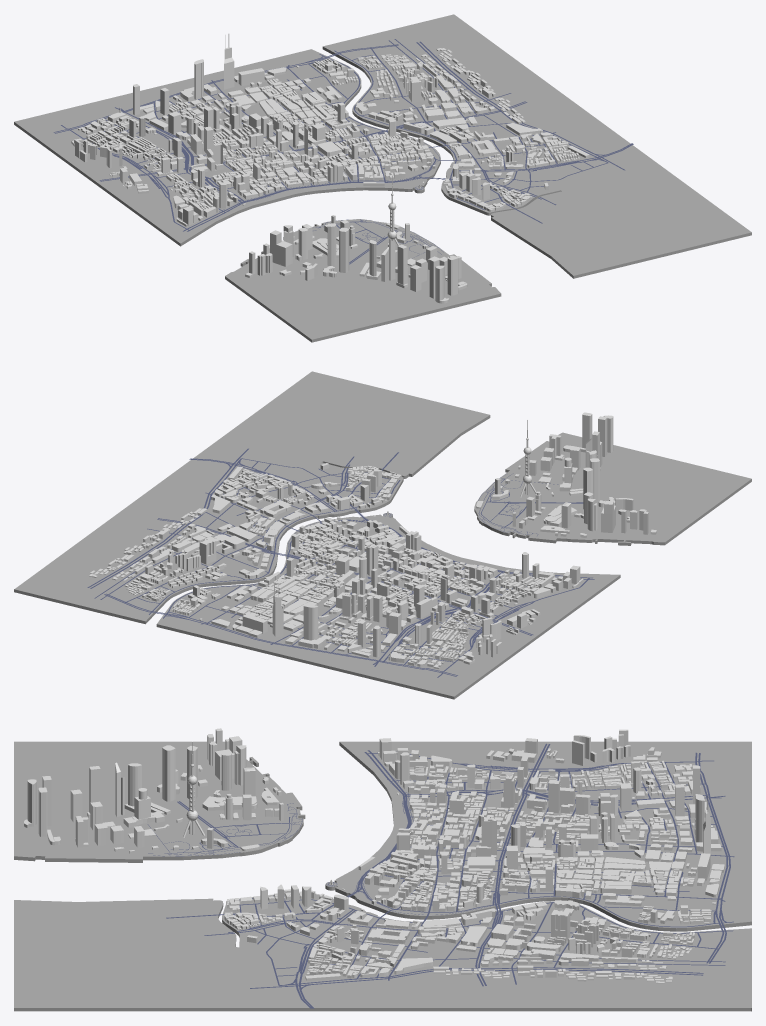
Rendered from shanghai2.0.glb.
The picture shows the model from 3 angles, top to bottom: view 1: azimuth 30°, elevation 25°; view 2: azimuth 150°, elevation 25°; view 3: azimuth 270°, elevation 25°; orthographic projection. The views are drawn at different scales.
Parts seen in each view (by area): view 1: LANDMASS, CITY_UNTRIANGULATED, ROADS; view 2: LANDMASS, CITY_UNTRIANGULATED, ROADS; view 3: LANDMASS, CITY_UNTRIANGULATED, ROADS.
Boxes of the visible parts, left/top/right/bottom form: LANDMASS: left=14, top=14, right=751, bottom=342; CITY_UNTRIANGULATED: left=71, top=34, right=589, bottom=303; ROADS: left=53, top=39, right=633, bottom=264; LANDMASS: left=14, top=371, right=751, bottom=699; CITY_UNTRIANGULATED: left=89, top=412, right=656, bottom=668; ROADS: left=87, top=448, right=594, bottom=677; LANDMASS: left=14, top=741, right=751, bottom=1011; CITY_UNTRIANGULATED: left=24, top=728, right=724, bottom=983; ROADS: left=147, top=743, right=734, bottom=1008.
Size of the model in its own units: 61.7 by 10.31 by 72.04.
